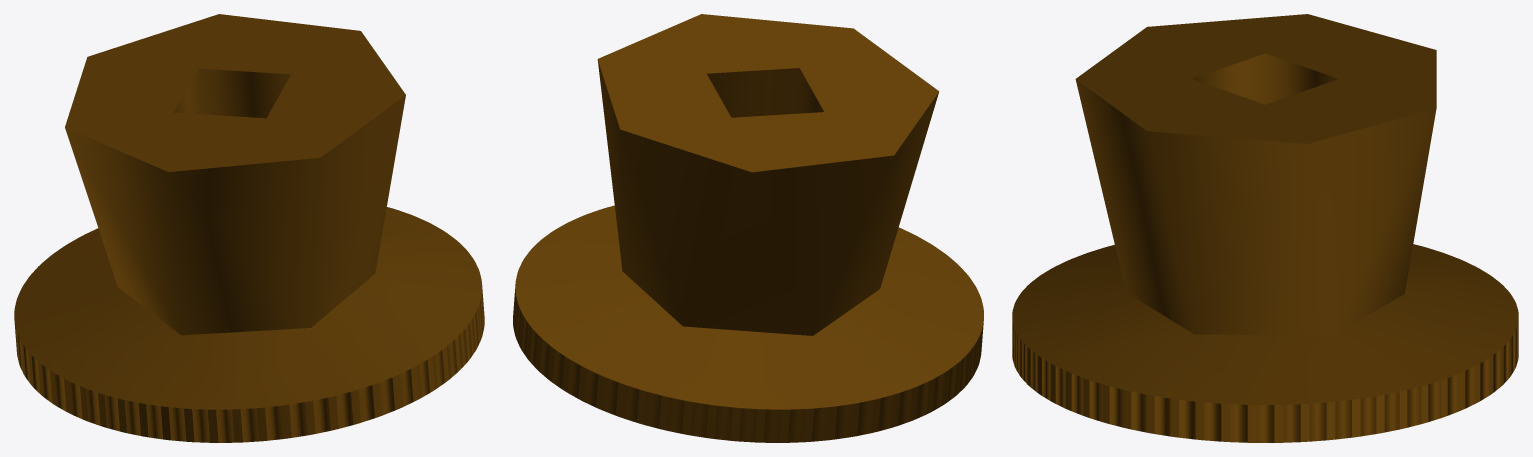
File: Vis Champignon_Gdetente_instance_1.obj
3 renders of one model, left to right at view 1: azimuth 30°, elevation 25°; view 2: azimuth 150°, elevation 25°; view 3: azimuth 270°, elevation 25°, orthographic. The views are drawn at different scales.
Visible parts, largest first — view 1: Face_61, Face_62, Face_60, Face_65, Face_121, Face_122, Face_120, Face_123, Face_119, Face_124, Face_118, Face_125 (+4 smaller); view 2: Face_62, Face_61, Face_60, Face_65, Face_100, Face_101, Face_102, Face_99, Face_103, Face_98, Face_104, Face_97 (+5 smaller); view 3: Face_61, Face_62, Face_60, Face_65, Face_81, Face_80, Face_82, Face_79, Face_83, Face_78, Face_84, Face_77 (+9 smaller).
Boxes of the visible parts, <box> form: Face_61: <box>65,95,405,335</box>; Face_62: <box>14,207,481,409</box>; Face_60: <box>65,14,405,172</box>; Face_65: <box>174,68,290,118</box>; Face_121: <box>240,408,258,442</box>; Face_122: <box>265,406,283,440</box>; Face_120: <box>216,409,234,442</box>; Face_123: <box>289,402,307,437</box>; Face_119: <box>192,409,210,442</box>; Face_124: <box>313,397,330,433</box>; Face_118: <box>168,407,186,441</box>; Face_125: <box>336,392,353,428</box>; Face_62: <box>515,205,983,409</box>; Face_61: <box>597,60,938,335</box>; Face_60: <box>597,14,938,172</box>; Face_65: <box>707,68,823,117</box>; Face_100: <box>714,405,732,440</box>; Face_101: <box>739,408,757,442</box>; Face_102: <box>763,409,781,442</box>; Face_99: <box>690,402,708,437</box>; Face_103: <box>787,409,805,442</box>; Face_98: <box>667,397,684,433</box>; Face_104: <box>811,407,829,441</box>; Face_97: <box>644,392,661,428</box>; Face_61: <box>1075,79,1436,335</box>; Face_62: <box>1012,244,1518,404</box>; Face_60: <box>1076,14,1436,143</box>; Face_65: <box>1192,53,1338,104</box>; Face_81: <box>1256,405,1274,442</box>; Face_80: <box>1230,404,1247,442</box>; Face_82: <box>1283,404,1300,442</box>; Face_79: <box>1204,402,1221,441</box>; Face_83: <box>1309,402,1326,441</box>; Face_78: <box>1179,399,1195,439</box>; Face_84: <box>1335,399,1351,439</box>; Face_77: <box>1154,396,1170,436</box>.
Bounding box in the file's own units: 0.01 × 0.00728 × 0.00999.
